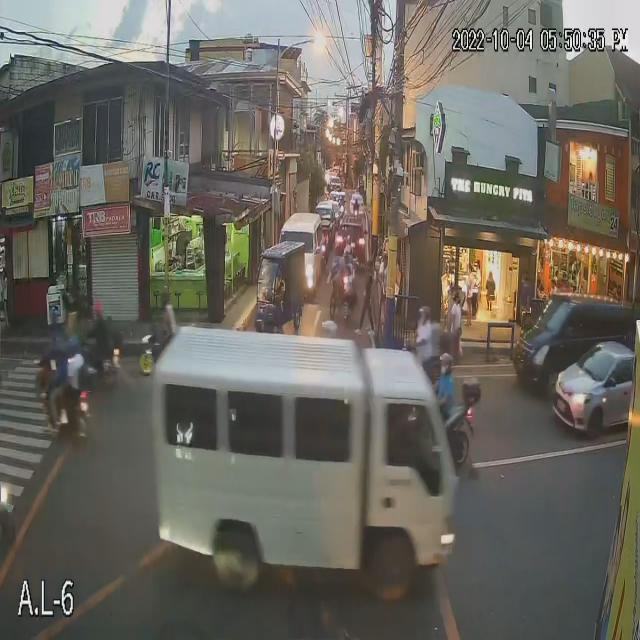helmet: (404, 306, 443, 338), (432, 352, 463, 383), (61, 334, 84, 369), (50, 316, 64, 361), (158, 285, 176, 307), (94, 298, 103, 323)
motorcycle: (21, 369, 96, 444), (439, 393, 495, 468), (137, 329, 186, 382), (73, 329, 124, 375), (396, 341, 453, 379)
rider: (429, 343, 466, 423), (38, 316, 65, 402), (408, 307, 444, 371), (155, 277, 184, 353), (62, 332, 91, 407), (88, 293, 111, 359)
